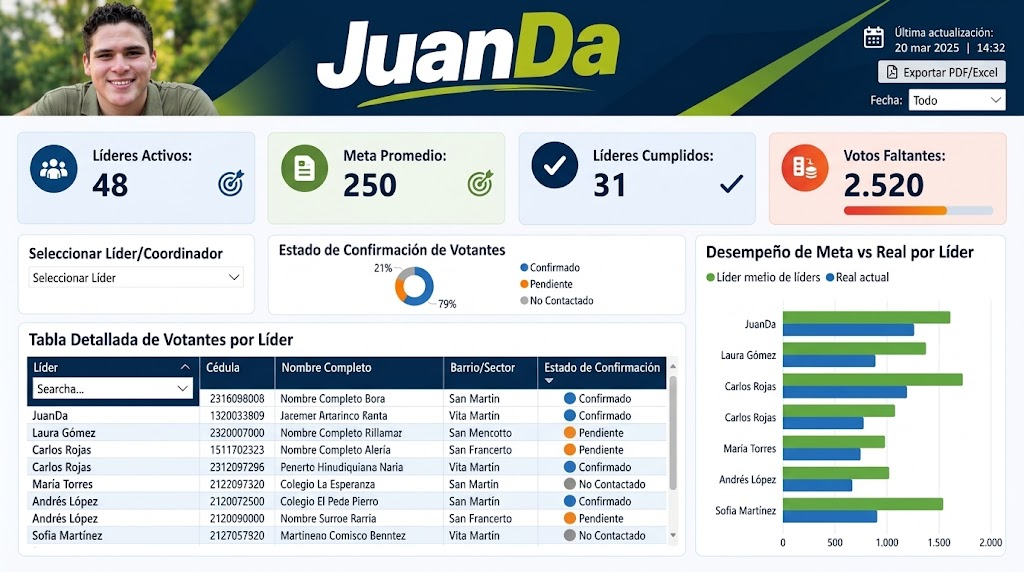

The dashboard page shown, as its layout file describes it:
{"tool":"powerbi","page":{"name":"Detalles de lideres y estructura","canvas":[1280,720],"ordinal":1},"visuals":[{"type":"advanceCardE03760C5AB684758B56AA29F9E6C257B","title":"Lideres activos","fields":{"mainMeasure":["Medidas lideres.Lideres activos"]},"box":[120.9,182.6,201.1,95.7],"z":0},{"type":"advanceCardE03760C5AB684758B56AA29F9E6C257B","title":"Meta individual","fields":{"mainMeasure":["Medidas lideres.Meta individual"]},"box":[411.6,182.6,201.1,95.7],"z":1000},{"type":"advanceCardE03760C5AB684758B56AA29F9E6C257B","title":"Lideres que cumplieron meta","fields":{"mainMeasure":["Medidas lideres.Lideres que cumplieron meta"]},"box":[675.6,182.6,247.7,95.3],"z":2000},{"type":"advanceCardE03760C5AB684758B56AA29F9E6C257B","title":"Votos faltantes","fields":{"mainMeasure":["Medidas lideres.Votos faltantes"]},"box":[1079.1,182.6,201.1,95.7],"z":3000},{"type":"slicer","fields":{"Values":["Respuestas.Líder"]},"box":[29.1,314,264,98.8],"z":4000},{"type":"donutChart","title":"Estado de confirmación de votantes","fields":{"Category":["Respuestas.Estado del voto"],"Y":["Medidas.Total registros"]},"box":[334.9,303.5,476.7,109.3],"z":5000},{"type":"clusteredBarChart","title":"Desempeño de Meta vs Real por líder","fields":{"Category":["Respuestas.Líder"],"Y":["Medidas lideres.Meta individual","Medidas resumen.Total registros"]},"box":[846.5,314,398.8,389.5],"z":6000},{"type":"tableEx","title":"Tabla detallada de votantes por líder","fields":{"Values":["Respuestas.Líder","Respuestas.Cédula","Respuestas.Nombre_votante","Respuestas.Teléfono","Respuestas.Comuna de votación","Respuestas.Puesto_Final","Respuestas.Estado del voto"]},"box":[29.1,450,782.6,253.5],"z":9000}]}

Visuals, with their boxes in screenshot pixels (x1, y1, x2, y2), scaled from the page's 1280x720 canvas onto the 1024x572 screenshot:
"Lideres activos" advanceCardE03760C5AB684758B56AA29F9E6C257B: x1=97 y1=145 x2=258 y2=221
"Meta individual" advanceCardE03760C5AB684758B56AA29F9E6C257B: x1=329 y1=145 x2=490 y2=221
"Lideres que cumplieron meta" advanceCardE03760C5AB684758B56AA29F9E6C257B: x1=540 y1=145 x2=739 y2=221
"Votos faltantes" advanceCardE03760C5AB684758B56AA29F9E6C257B: x1=863 y1=145 x2=1023 y2=221
slicer - Respuestas.Líder: x1=23 y1=249 x2=234 y2=328
"Estado de confirmación de votantes" donutChart: x1=268 y1=241 x2=649 y2=328
"Desempeño de Meta vs Real por líder" clusteredBarChart: x1=677 y1=249 x2=996 y2=559
"Tabla detallada de votantes por líder" tableEx: x1=23 y1=358 x2=649 y2=559
